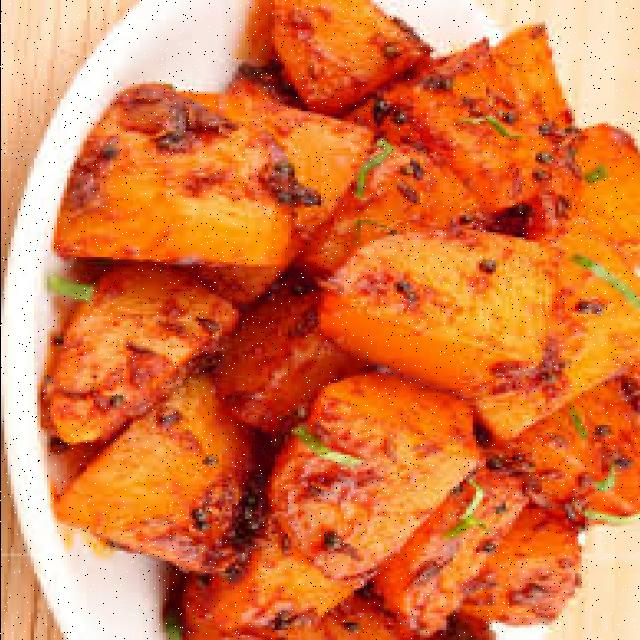Potato: (43, 0, 640, 638)
